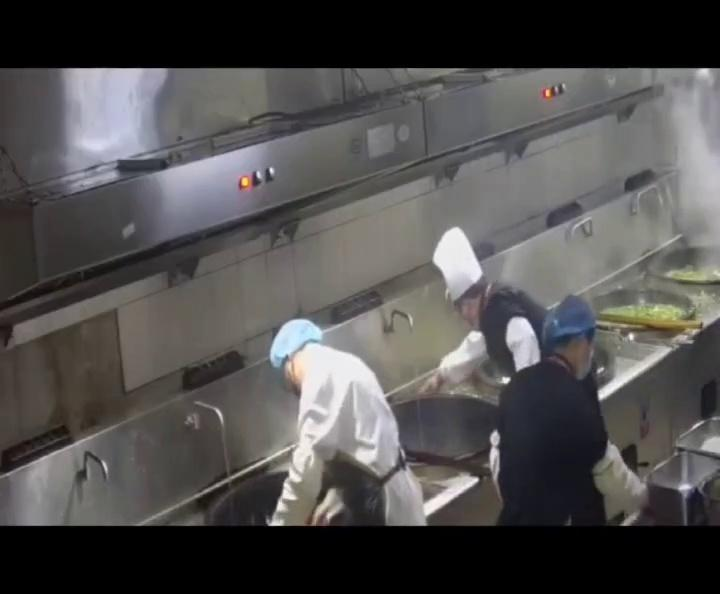gloves: (266, 314, 326, 364), (543, 296, 597, 348)
